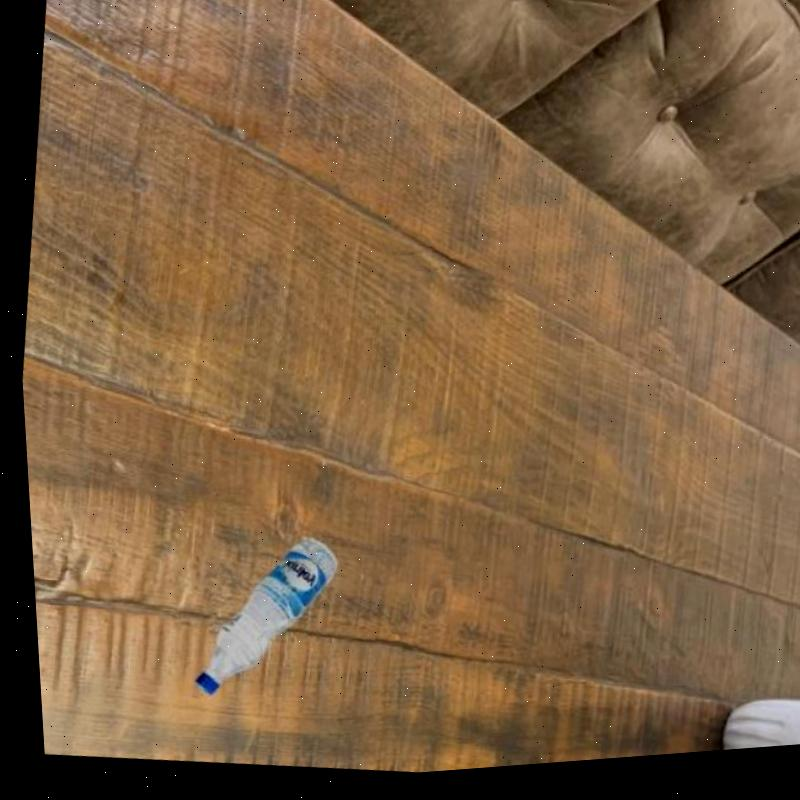botella: (179, 528, 341, 710)
